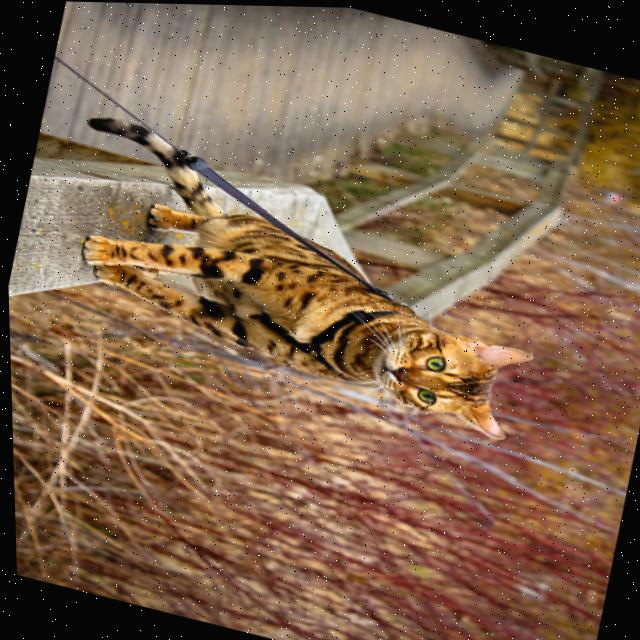Bengal: (33, 105, 572, 449)
